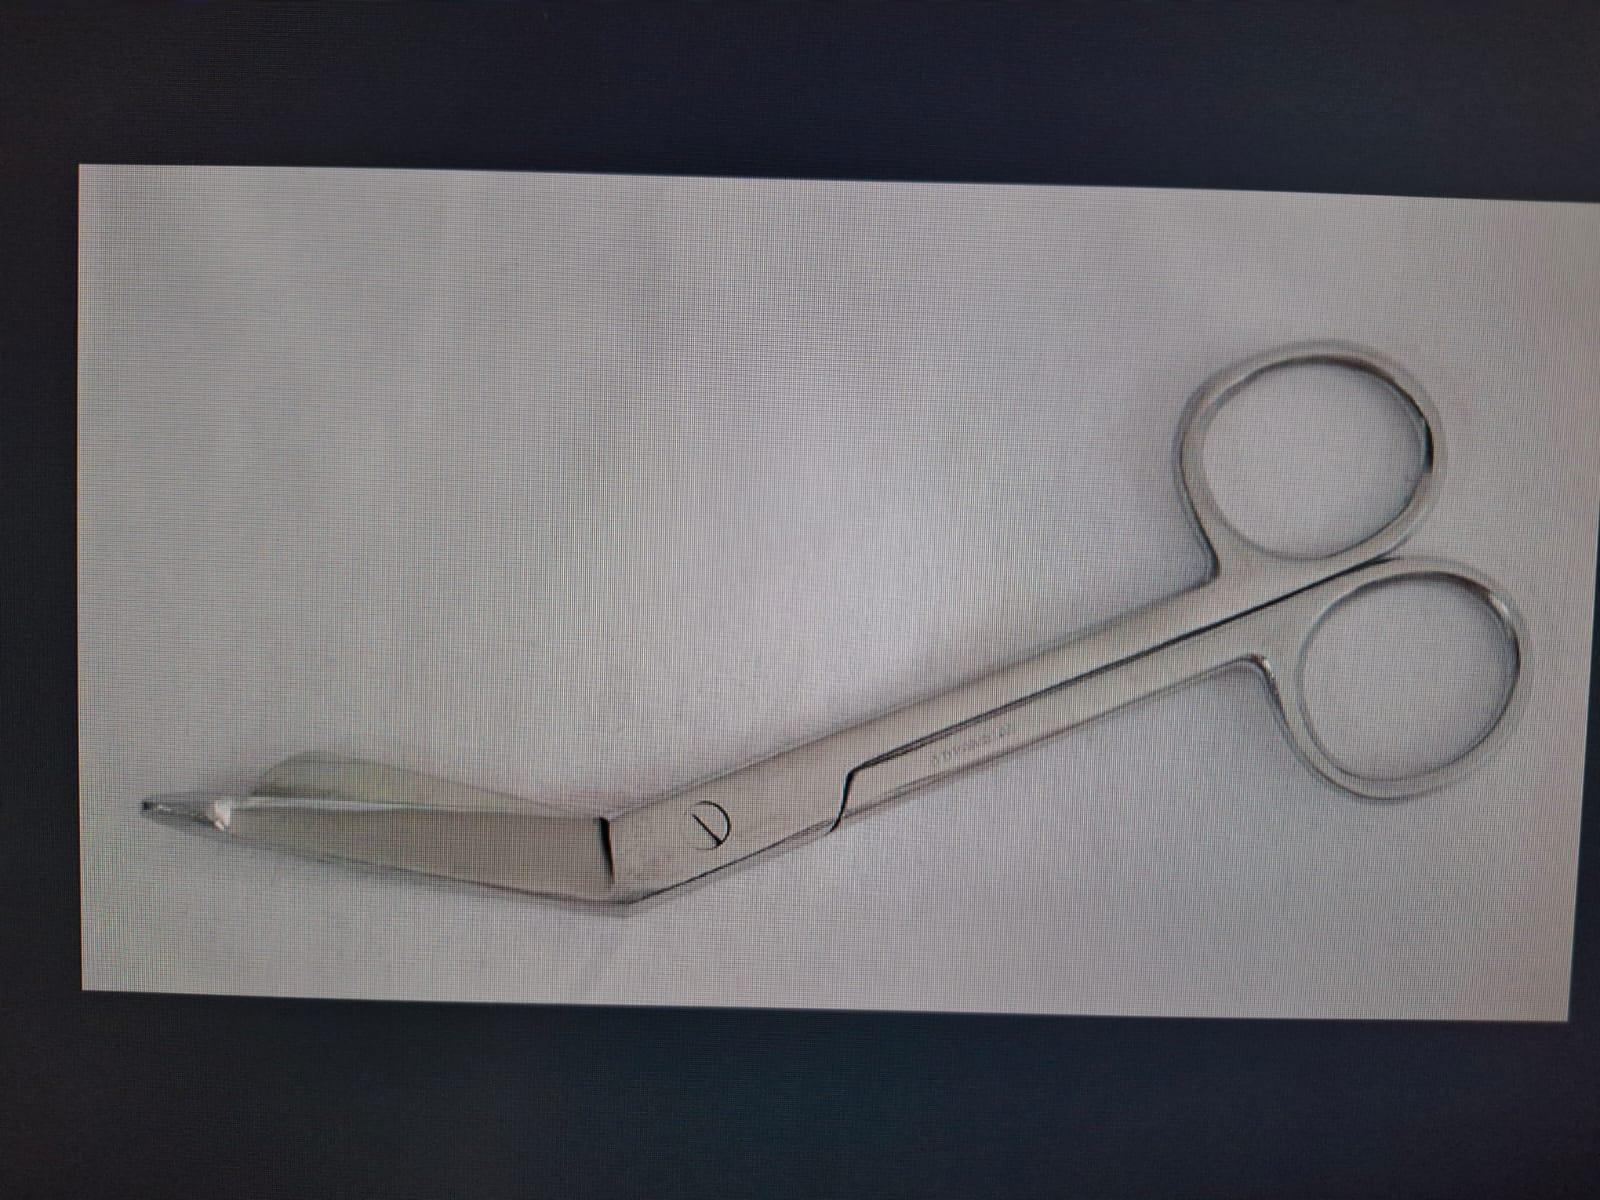Bandage Sciccors: (112, 328, 1546, 948)
